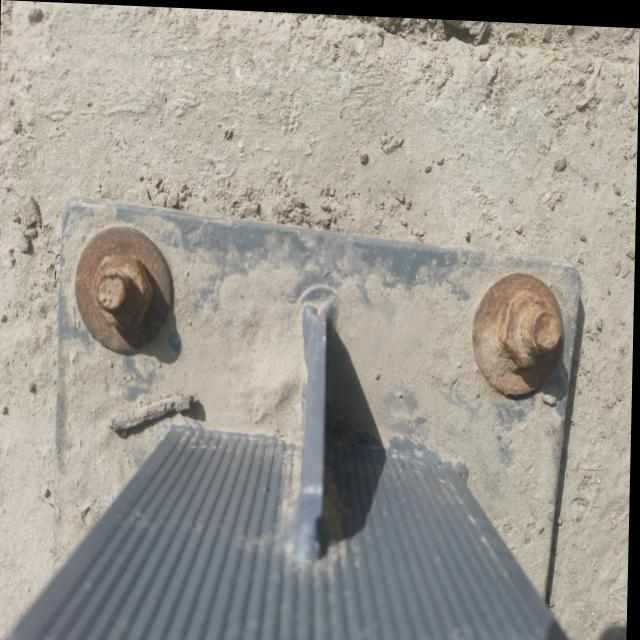Rusty bolt: (89, 255, 157, 335), (496, 286, 562, 366)
